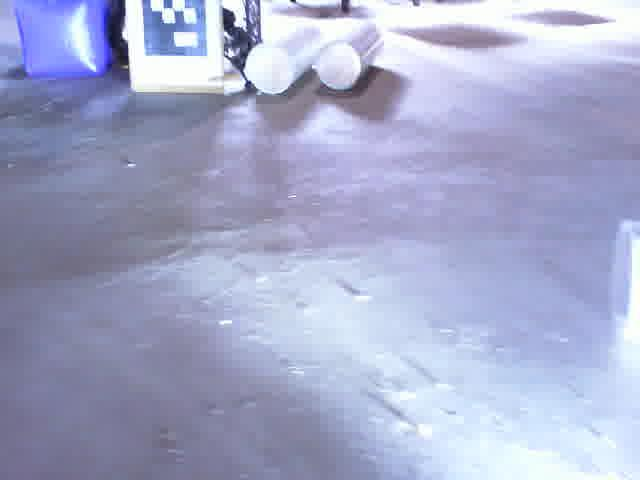coral: (240, 20, 326, 100), (317, 20, 388, 98)
